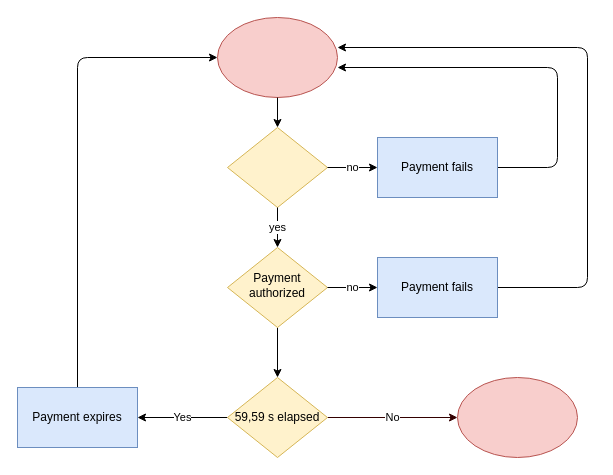
This 613x475 diagram has some shape labels left out. The shapes that lost their labels are listed below. From the top down, each one's box as (x1, y1, x2, y2) in pixels, then its label:
(216, 16, 338, 98): Payment open
(226, 126, 328, 208): Add payment method
(456, 376, 578, 458): Payment charged
